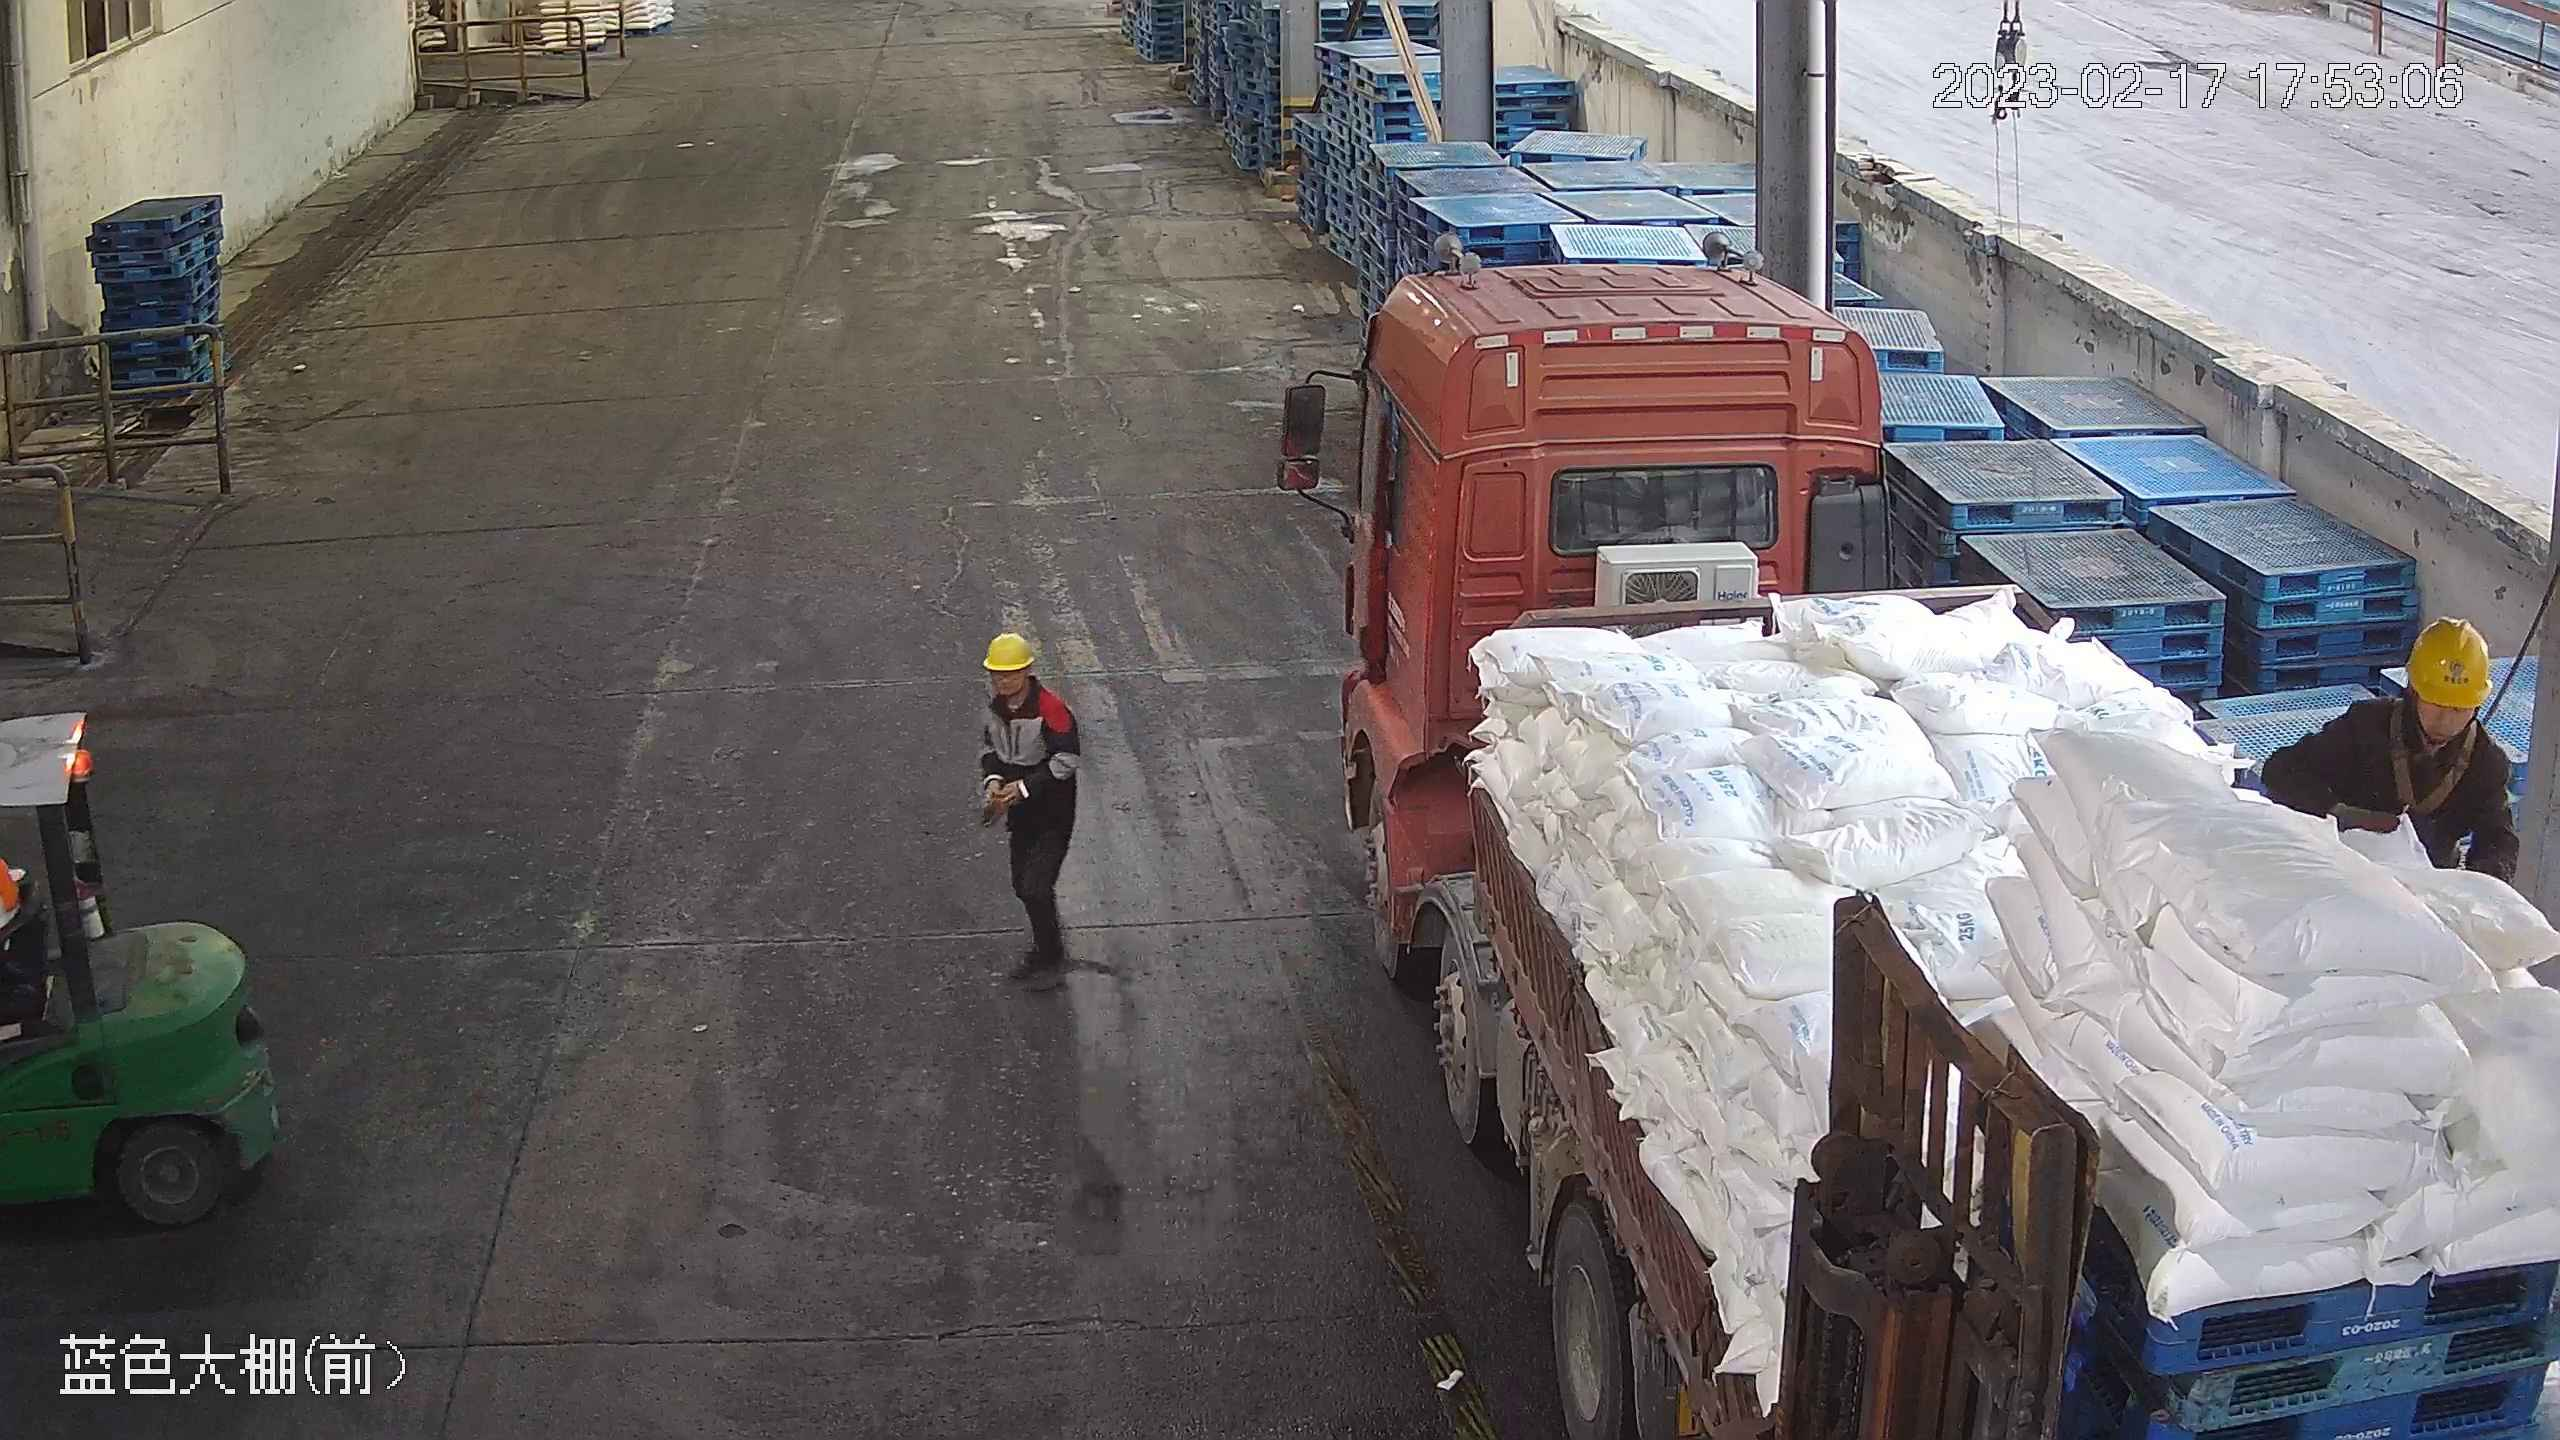belt: (2380, 712, 2476, 818)
head: (2336, 610, 2505, 790), (973, 631, 1075, 726)
helmet: (2401, 613, 2500, 706), (979, 628, 1035, 673)
people: (971, 628, 1084, 977)
truck: (1278, 222, 2560, 1440)
